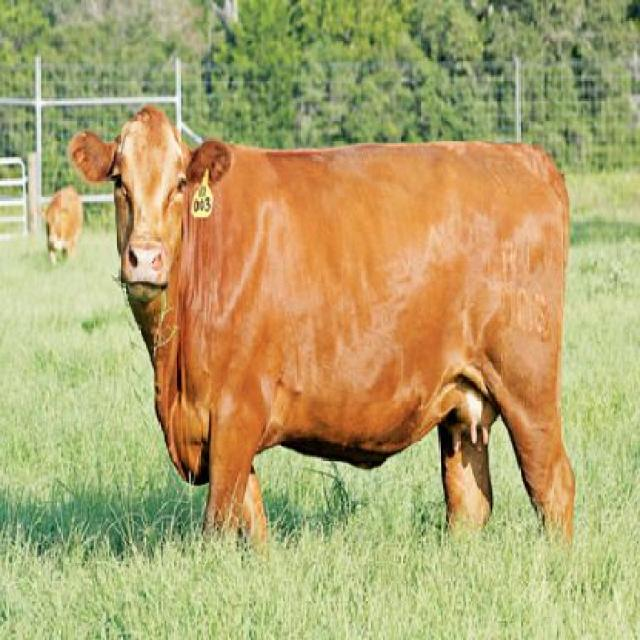Cow: (71, 103, 571, 559)
